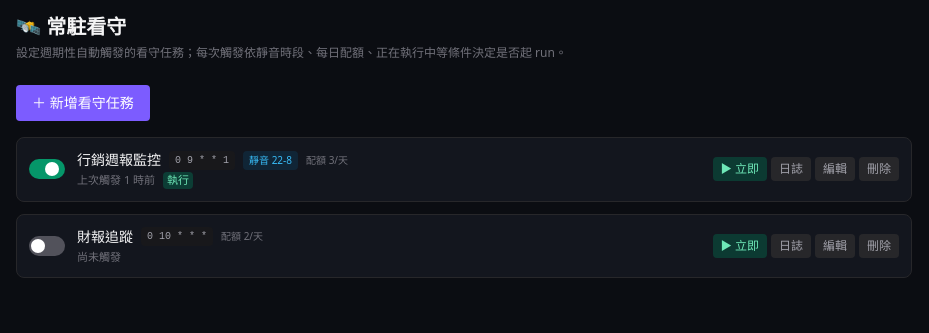
it: WatchtowerPanel — 日誌時間軸 › 點「日誌」展開後呼叫 watchtowerLogs 並顯示 decision 色標
Check: the text "行銷週報監控" is shown, box [77,150,161,170]
Click the button "日誌" in the row of "22-8" at (791, 169), box [771,157,811,181]
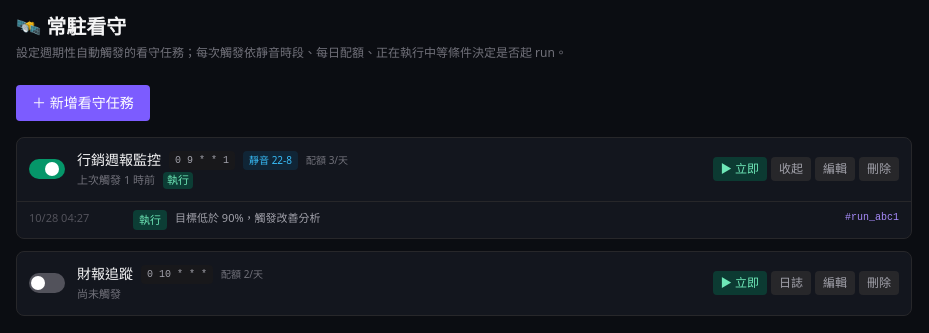
Check: the text "執行" next to "1 時前" is shown, box [167,172,189,187]
Check: the text "目標低於 90%，觸發改善分析" is shown, box [175,210,321,224]
